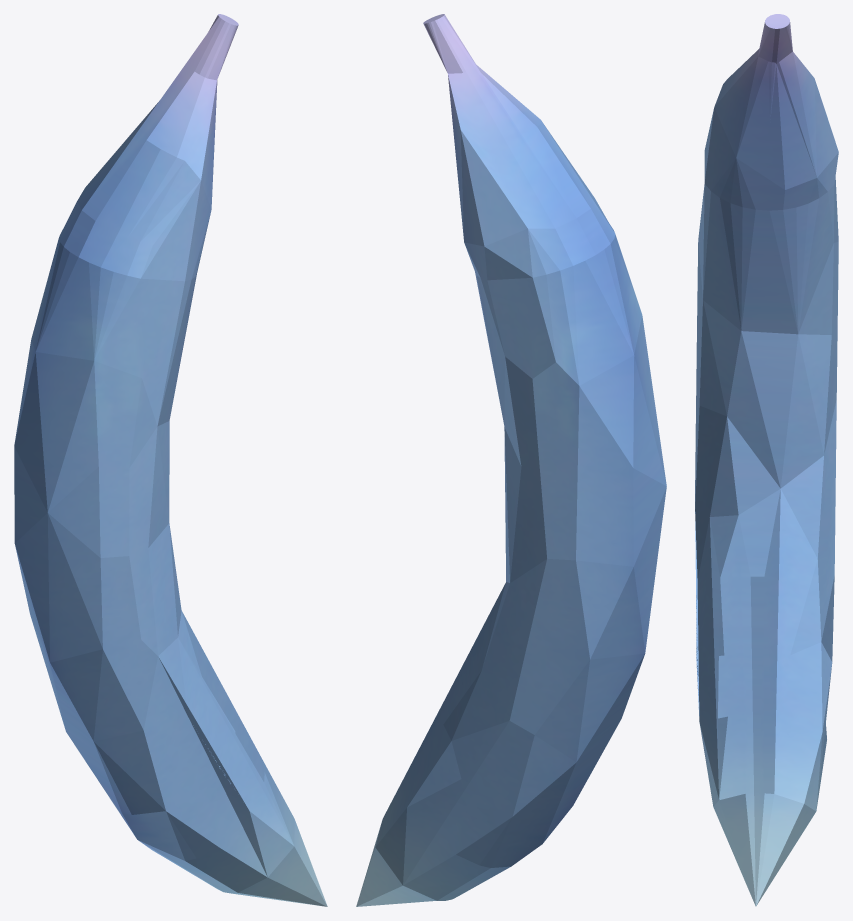
Rendered from banana.obj.
3 views of the same model, side by side, from view 1: azimuth 30°, elevation 25°; view 2: azimuth 150°, elevation 25°; view 3: azimuth 270°, elevation 25° (orthographic). The views are drawn at different scales.
Visible parts, largest first — view 1: Cylinder; view 2: Cylinder; view 3: Cylinder.
Part boxes in pixels (<box>): Cylinder: <box>14,14,327,906</box>; Cylinder: <box>356,14,666,906</box>; Cylinder: <box>695,14,838,906</box>.
Bounding box in the file's own units: 0.0857 × 0.2532 × 0.0388.
Materials: 1 (1 with a texture image).
